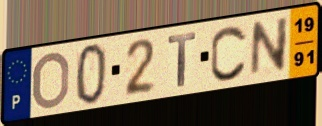0: (74, 41, 109, 107)
2: (124, 37, 157, 98)
C: (209, 23, 249, 83)
N: (248, 14, 291, 80)
O: (31, 50, 72, 111)
T: (166, 30, 198, 89)
